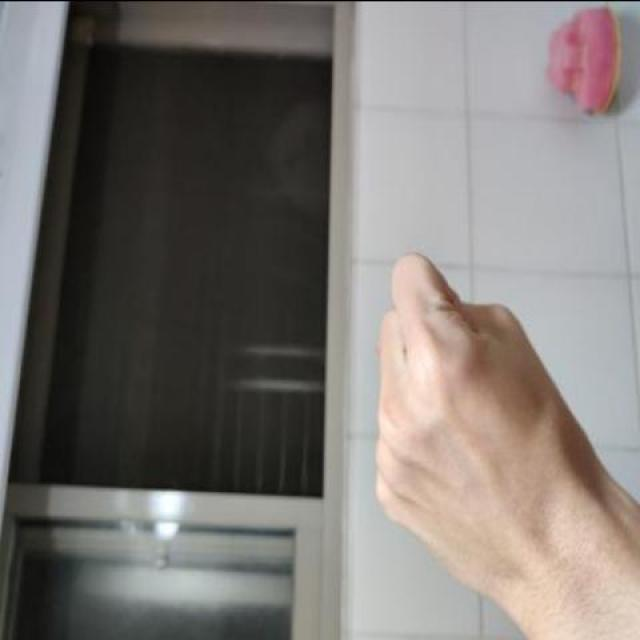Closed Hand: (368, 244, 640, 640)
